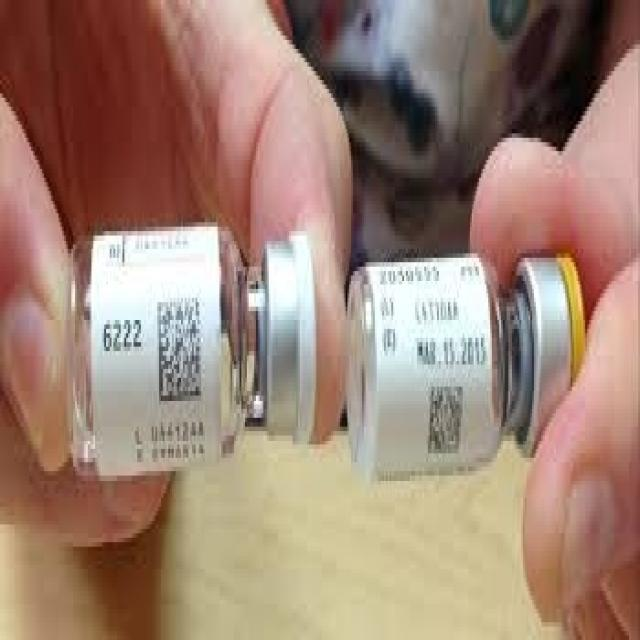datamatrix: (153, 285, 208, 410), (425, 370, 469, 472)
